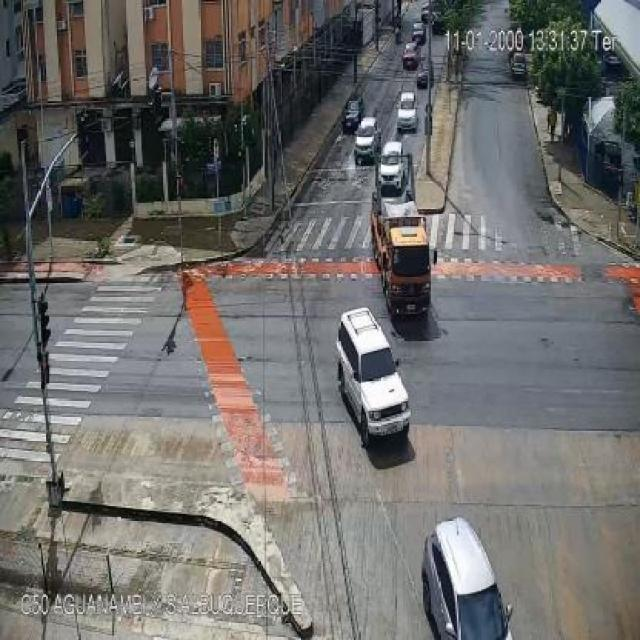Car: (421, 518, 513, 640), (337, 308, 414, 446), (375, 139, 406, 191), (354, 119, 379, 165), (340, 95, 365, 137), (395, 92, 418, 135), (403, 43, 421, 70)
Truck: (369, 207, 438, 318)
